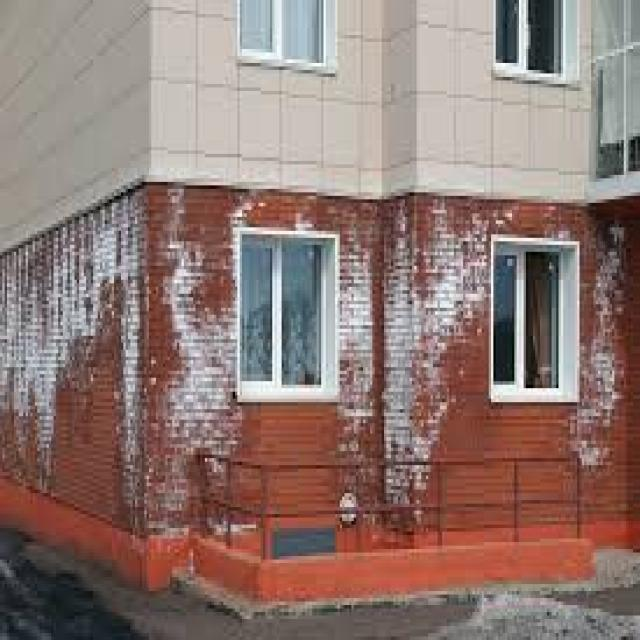stain_mould: (5, 196, 150, 514), (380, 196, 513, 520), (157, 183, 261, 488), (571, 218, 632, 467), (338, 213, 376, 495)
